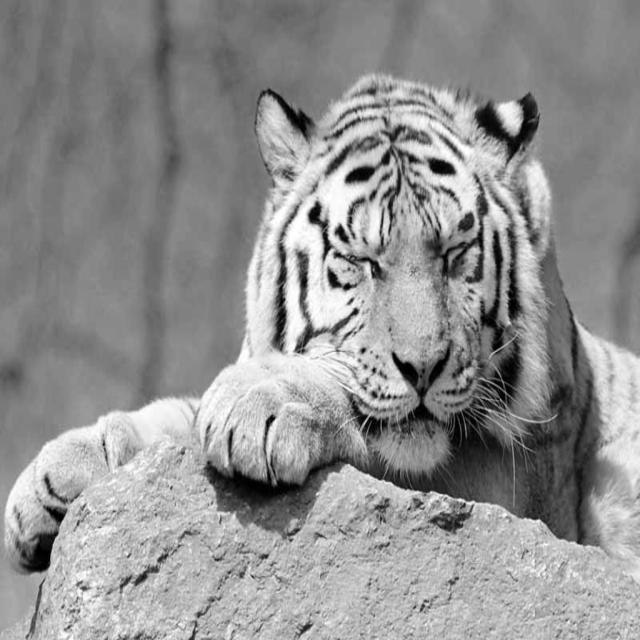Tiger: (0, 65, 639, 577)
